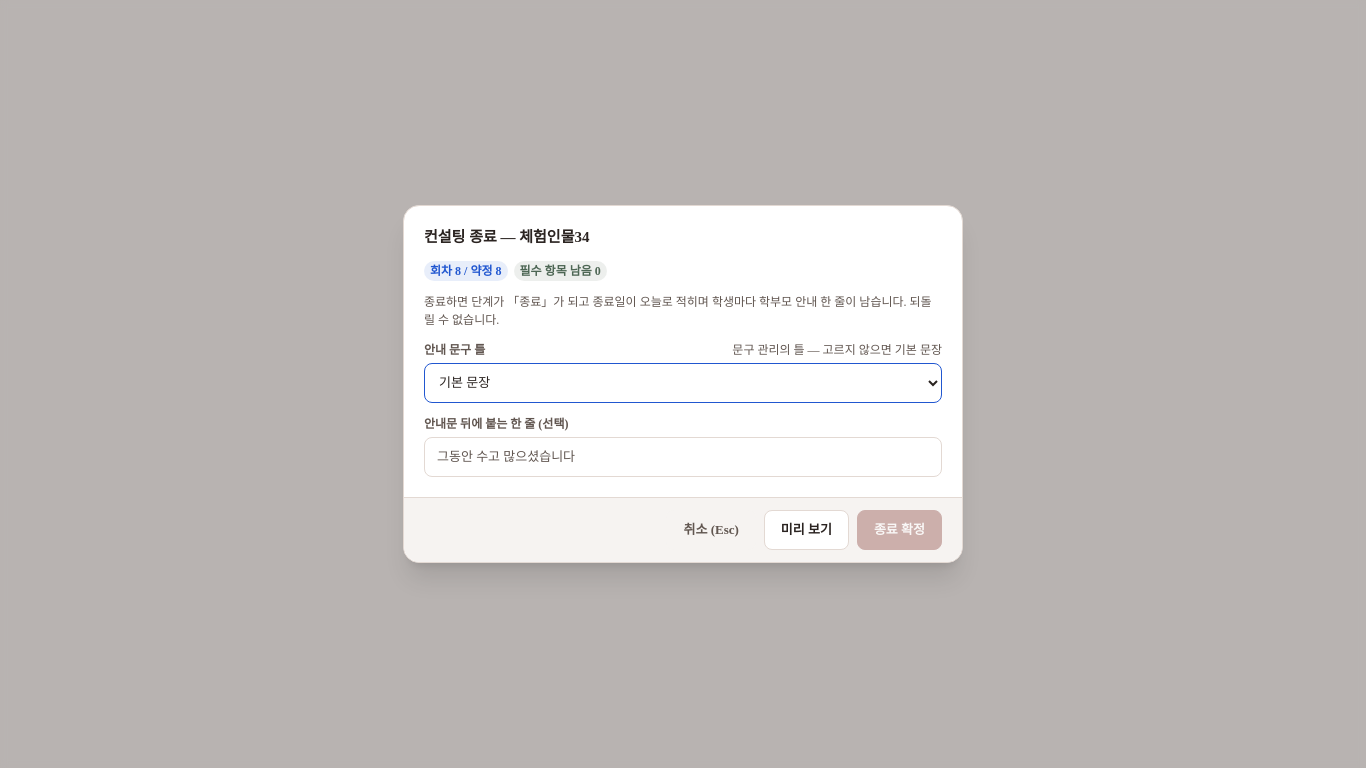
Scenario: 미리보기의 안내문을 카카오톡 문구로 그대로 복사한다 — 발송 채널이 아니라 붙여 넣을 글이다 (I-95)
Click the button "미리 보기".
click(806, 530)  # box x1=764 y1=510 x2=849 y2=550
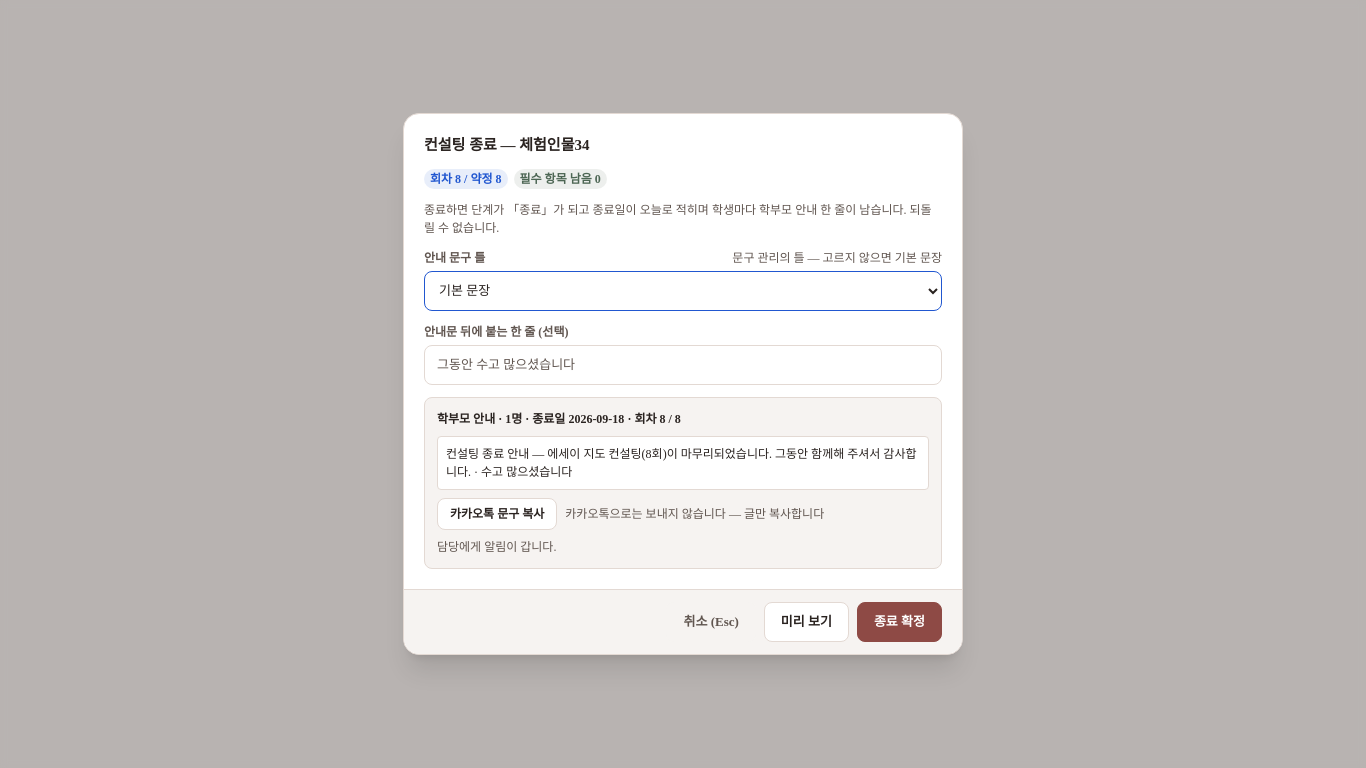
Click the button "카카오톡 문구 복사".
click(497, 514)  # box x1=437 y1=498 x2=557 y2=530
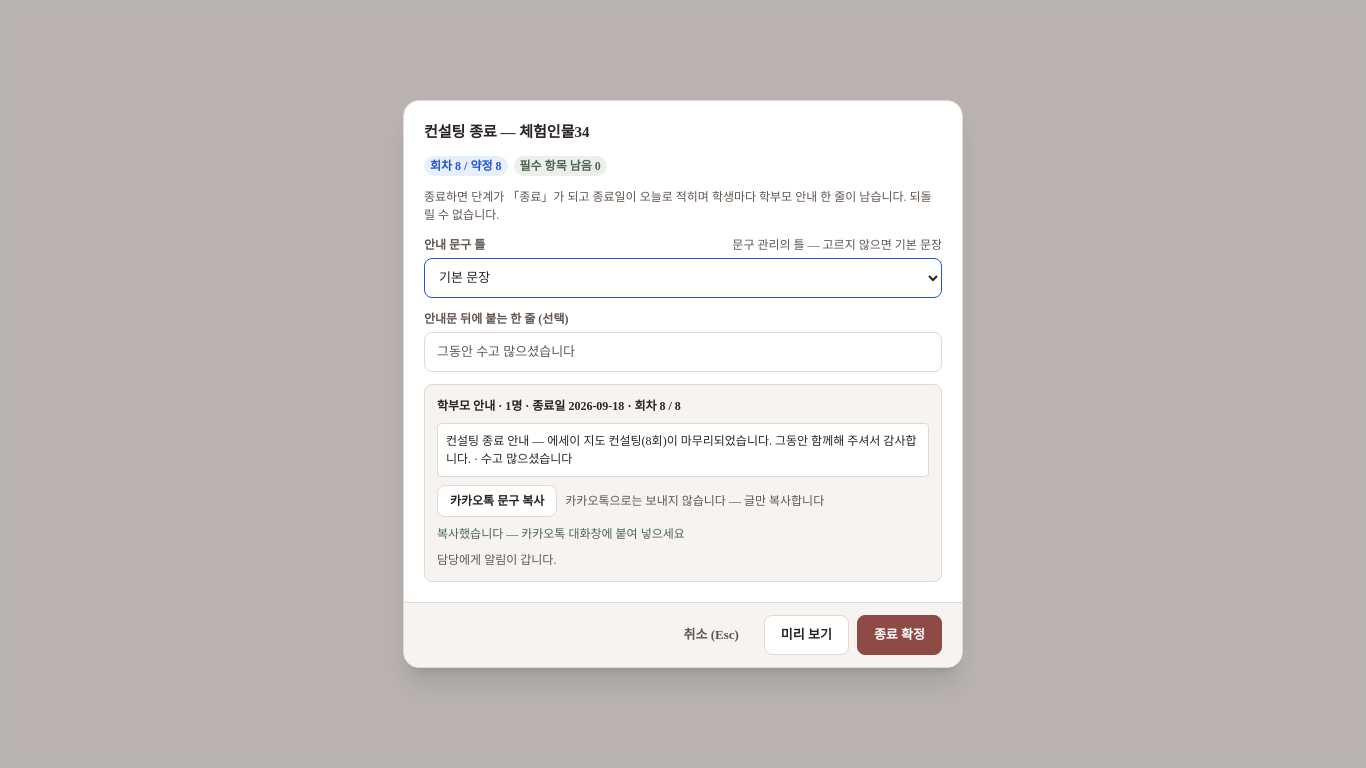
Expected: the text "복사했습니다 — 카카오톡 대화창에 붙여 넣으세요" is shown, x1=437 y1=525 x2=685 y2=543
